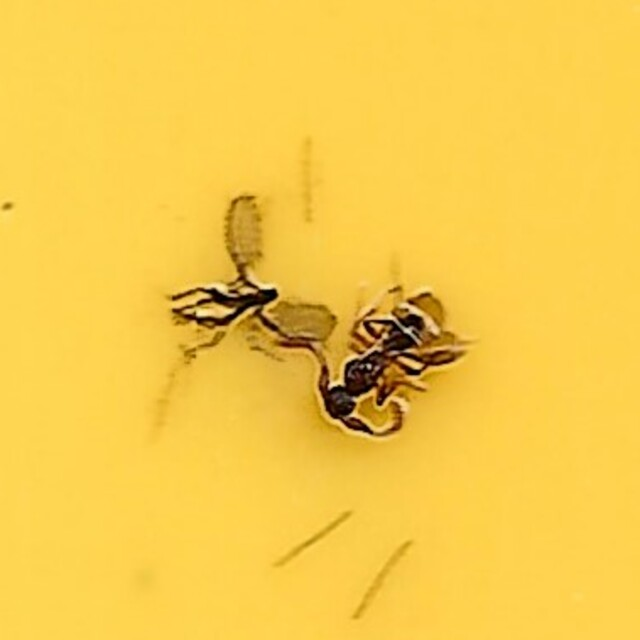Hymenoptera: (275, 276, 471, 450)
Nematocera: (169, 190, 341, 350)
